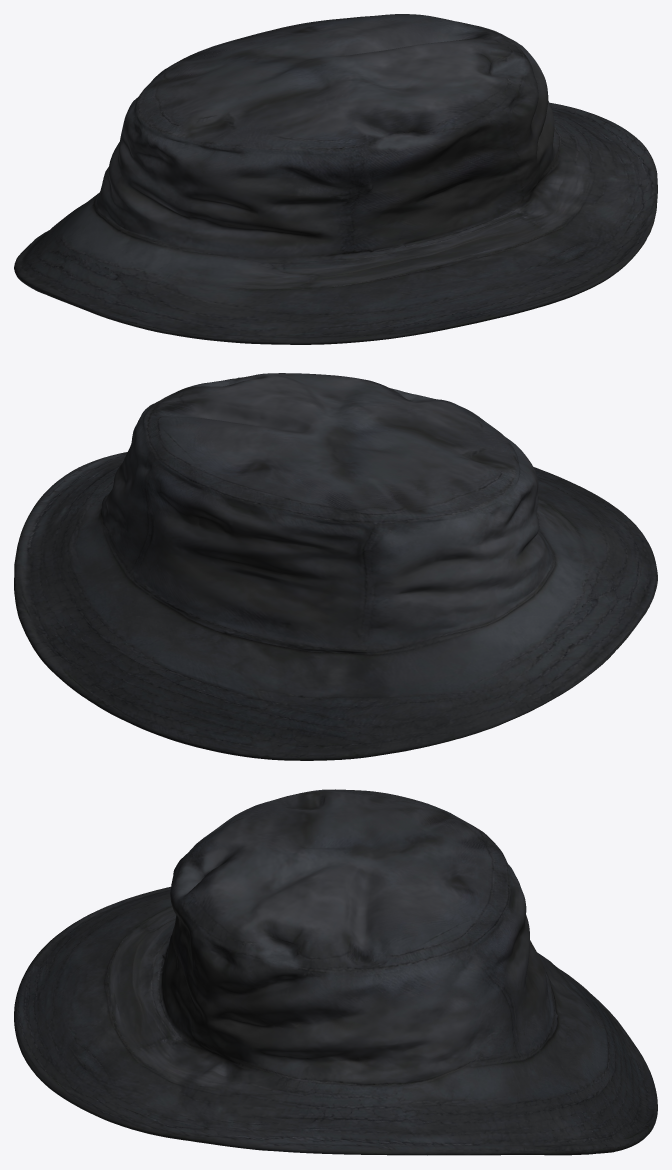
The model's file is kpop-bucket-hat.glb.
3 views of the same model, one above another, from view 1: azimuth 30°, elevation 25°; view 2: azimuth 150°, elevation 25°; view 3: azimuth 270°, elevation 25° (orthographic). The views are drawn at different scales.
Parts seen in each view (by area): view 1: tripo_node_724393af-3e77-44ed-956e-3c1eea468c85; view 2: tripo_node_724393af-3e77-44ed-956e-3c1eea468c85; view 3: tripo_node_724393af-3e77-44ed-956e-3c1eea468c85.
Boxes of the visible parts, bbox=[...] form: tripo_node_724393af-3e77-44ed-956e-3c1eea468c85: bbox=[14, 14, 657, 344]; tripo_node_724393af-3e77-44ed-956e-3c1eea468c85: bbox=[14, 373, 657, 760]; tripo_node_724393af-3e77-44ed-956e-3c1eea468c85: bbox=[14, 789, 657, 1155].
Size of the model in its own units: 1.47 by 0.5558 by 1.33.
Materials: 1 (1 with a texture image).
